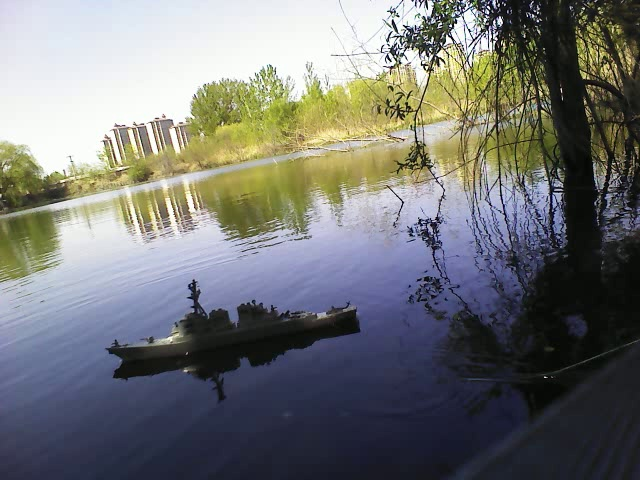warship: (105, 275, 363, 361)
